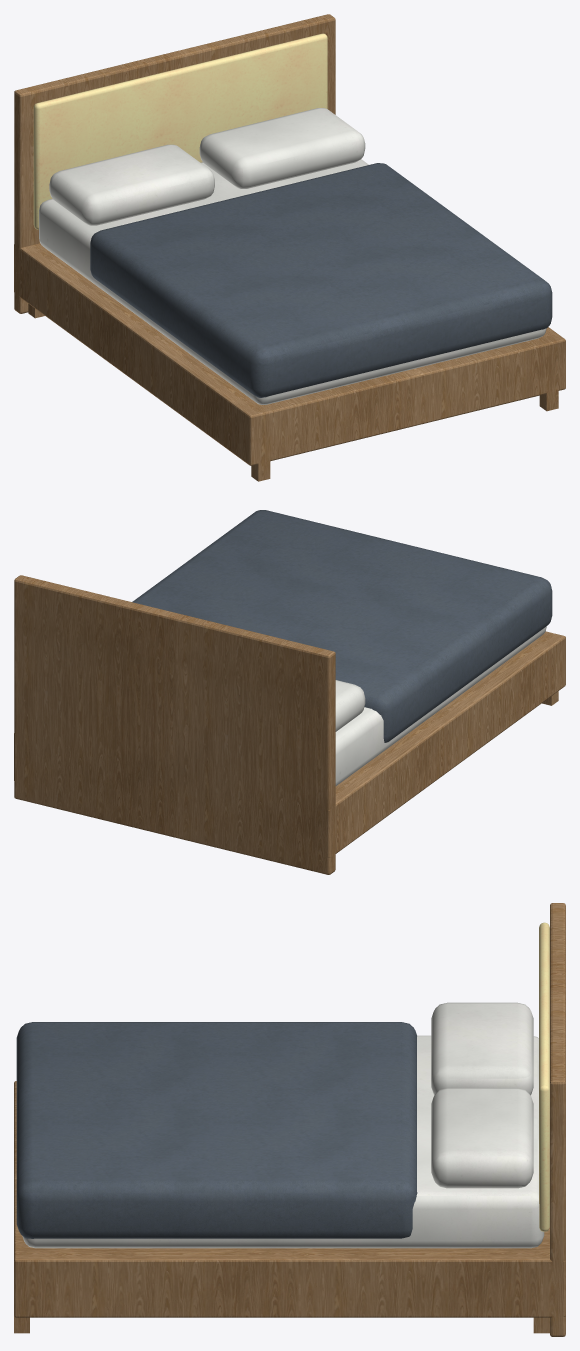
The model's file is bed_double.fbx.
3 views of the same model, one above another, from view 1: azimuth 30°, elevation 25°; view 2: azimuth 150°, elevation 25°; view 3: azimuth 270°, elevation 25° (orthographic). The views are drawn at different scales.
Visible parts, largest first — view 1: bed_double; view 2: bed_double; view 3: bed_double.
Boxes of the visible parts, bbox=[...] form: bed_double: bbox=[14, 14, 565, 481]; bed_double: bbox=[14, 510, 565, 874]; bed_double: bbox=[14, 903, 565, 1336].
Size of what is drawn, in the model's own units: 158 by 105 by 205.
4 materials, 4 textured.
